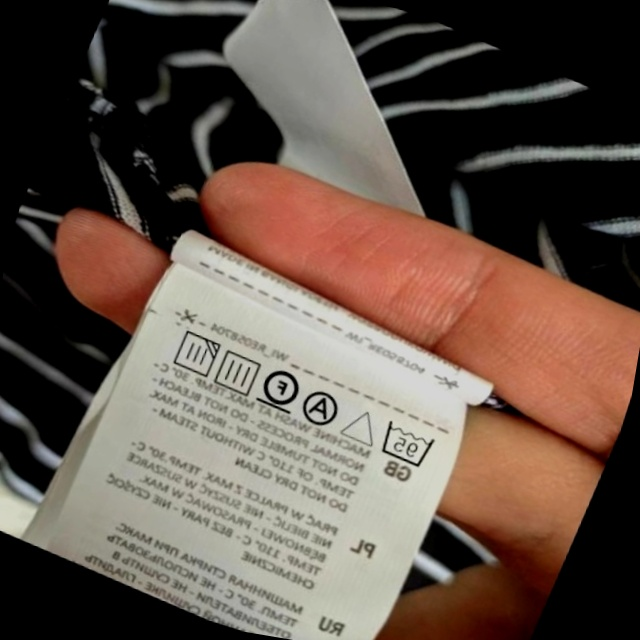95C: (371, 414, 441, 473)
bleach: (338, 398, 387, 452)
drip_dry: (208, 343, 267, 401)
drip_dry_in_shade: (164, 323, 225, 383)
dry_clean: (296, 383, 348, 434)
dry_clean_petrol_only: (253, 358, 308, 418)
